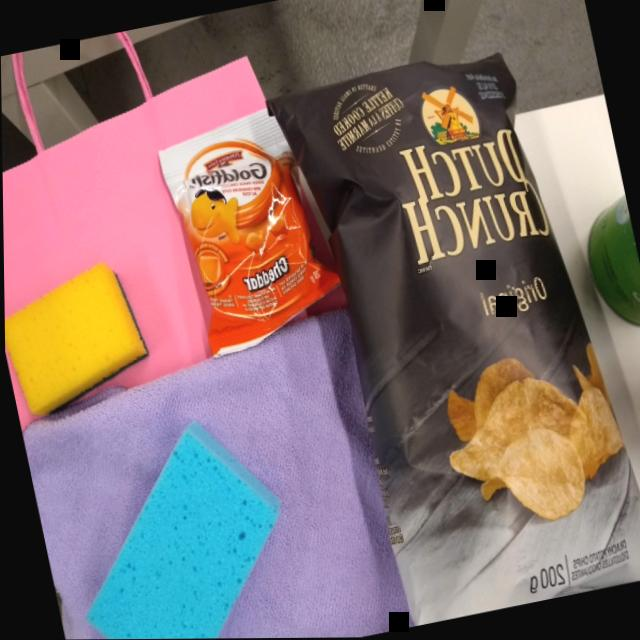crackers: (146, 98, 357, 367)
potato_chips: (257, 34, 640, 636)
scrubby: (3, 253, 162, 425)
sponge_opl: (46, 397, 314, 640)
